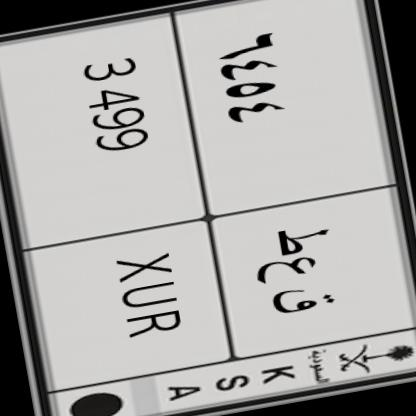english: (0, 8, 244, 403)
